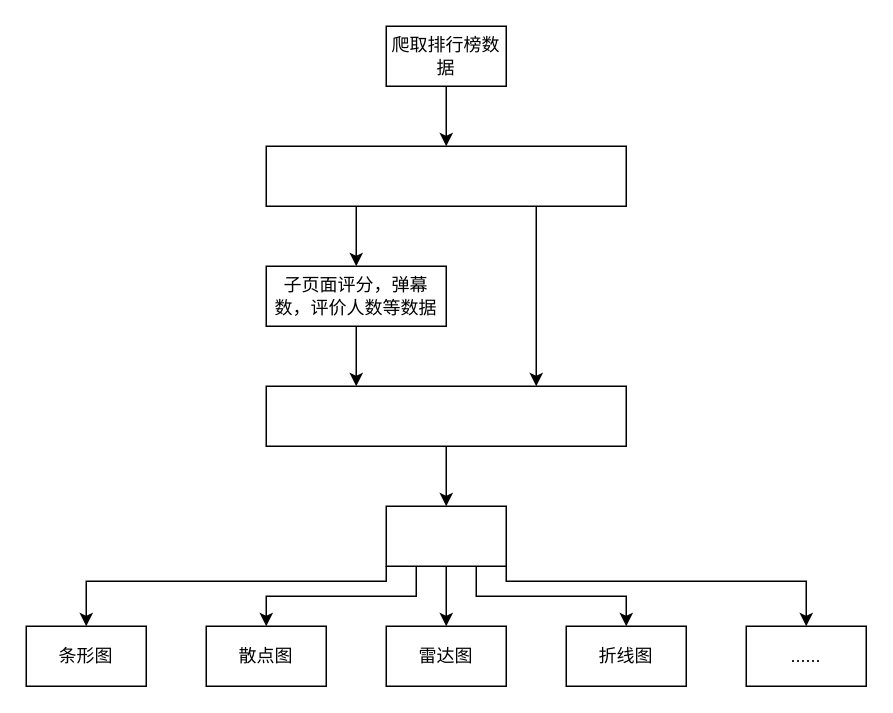
This 893x713 diagram has some shape labels left out. The shapes that lost their labels are listed below. From the top down, each one's centre as x and y in pixels, then its label:
the point at 445,175: 获取子页面链接，播放量，追番数
the point at 445,415: save.py将数据保存至excel，txt中
the point at 445,535: view.py制图
